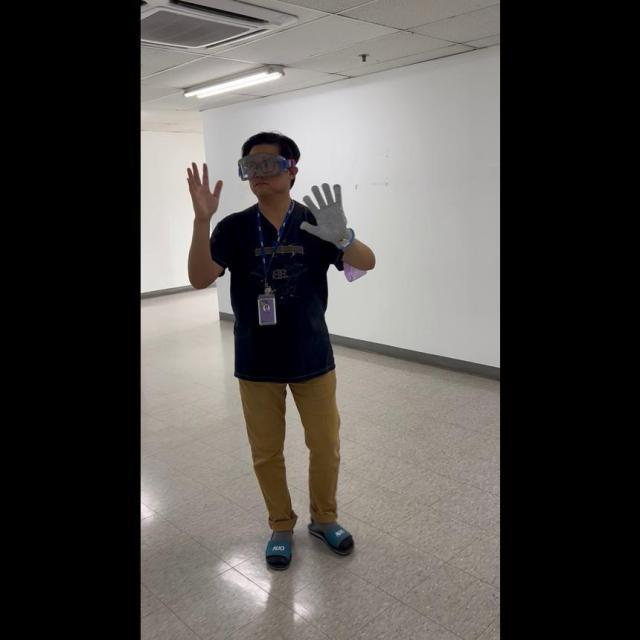bare_hand: (183, 157, 221, 219)
gloved_hand: (297, 182, 358, 249)
